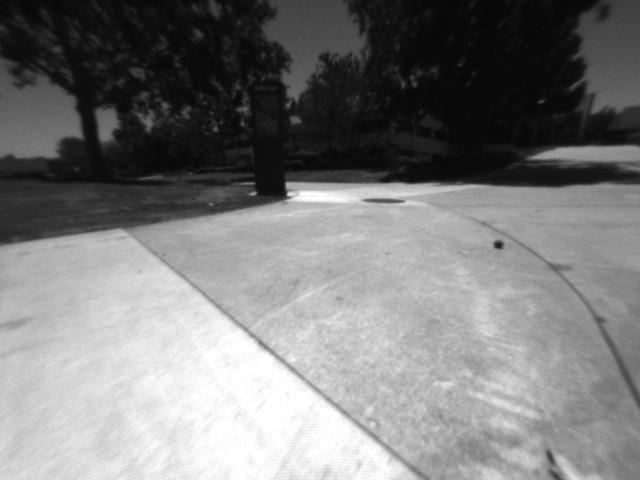dogtoy: (489, 229, 509, 256)
